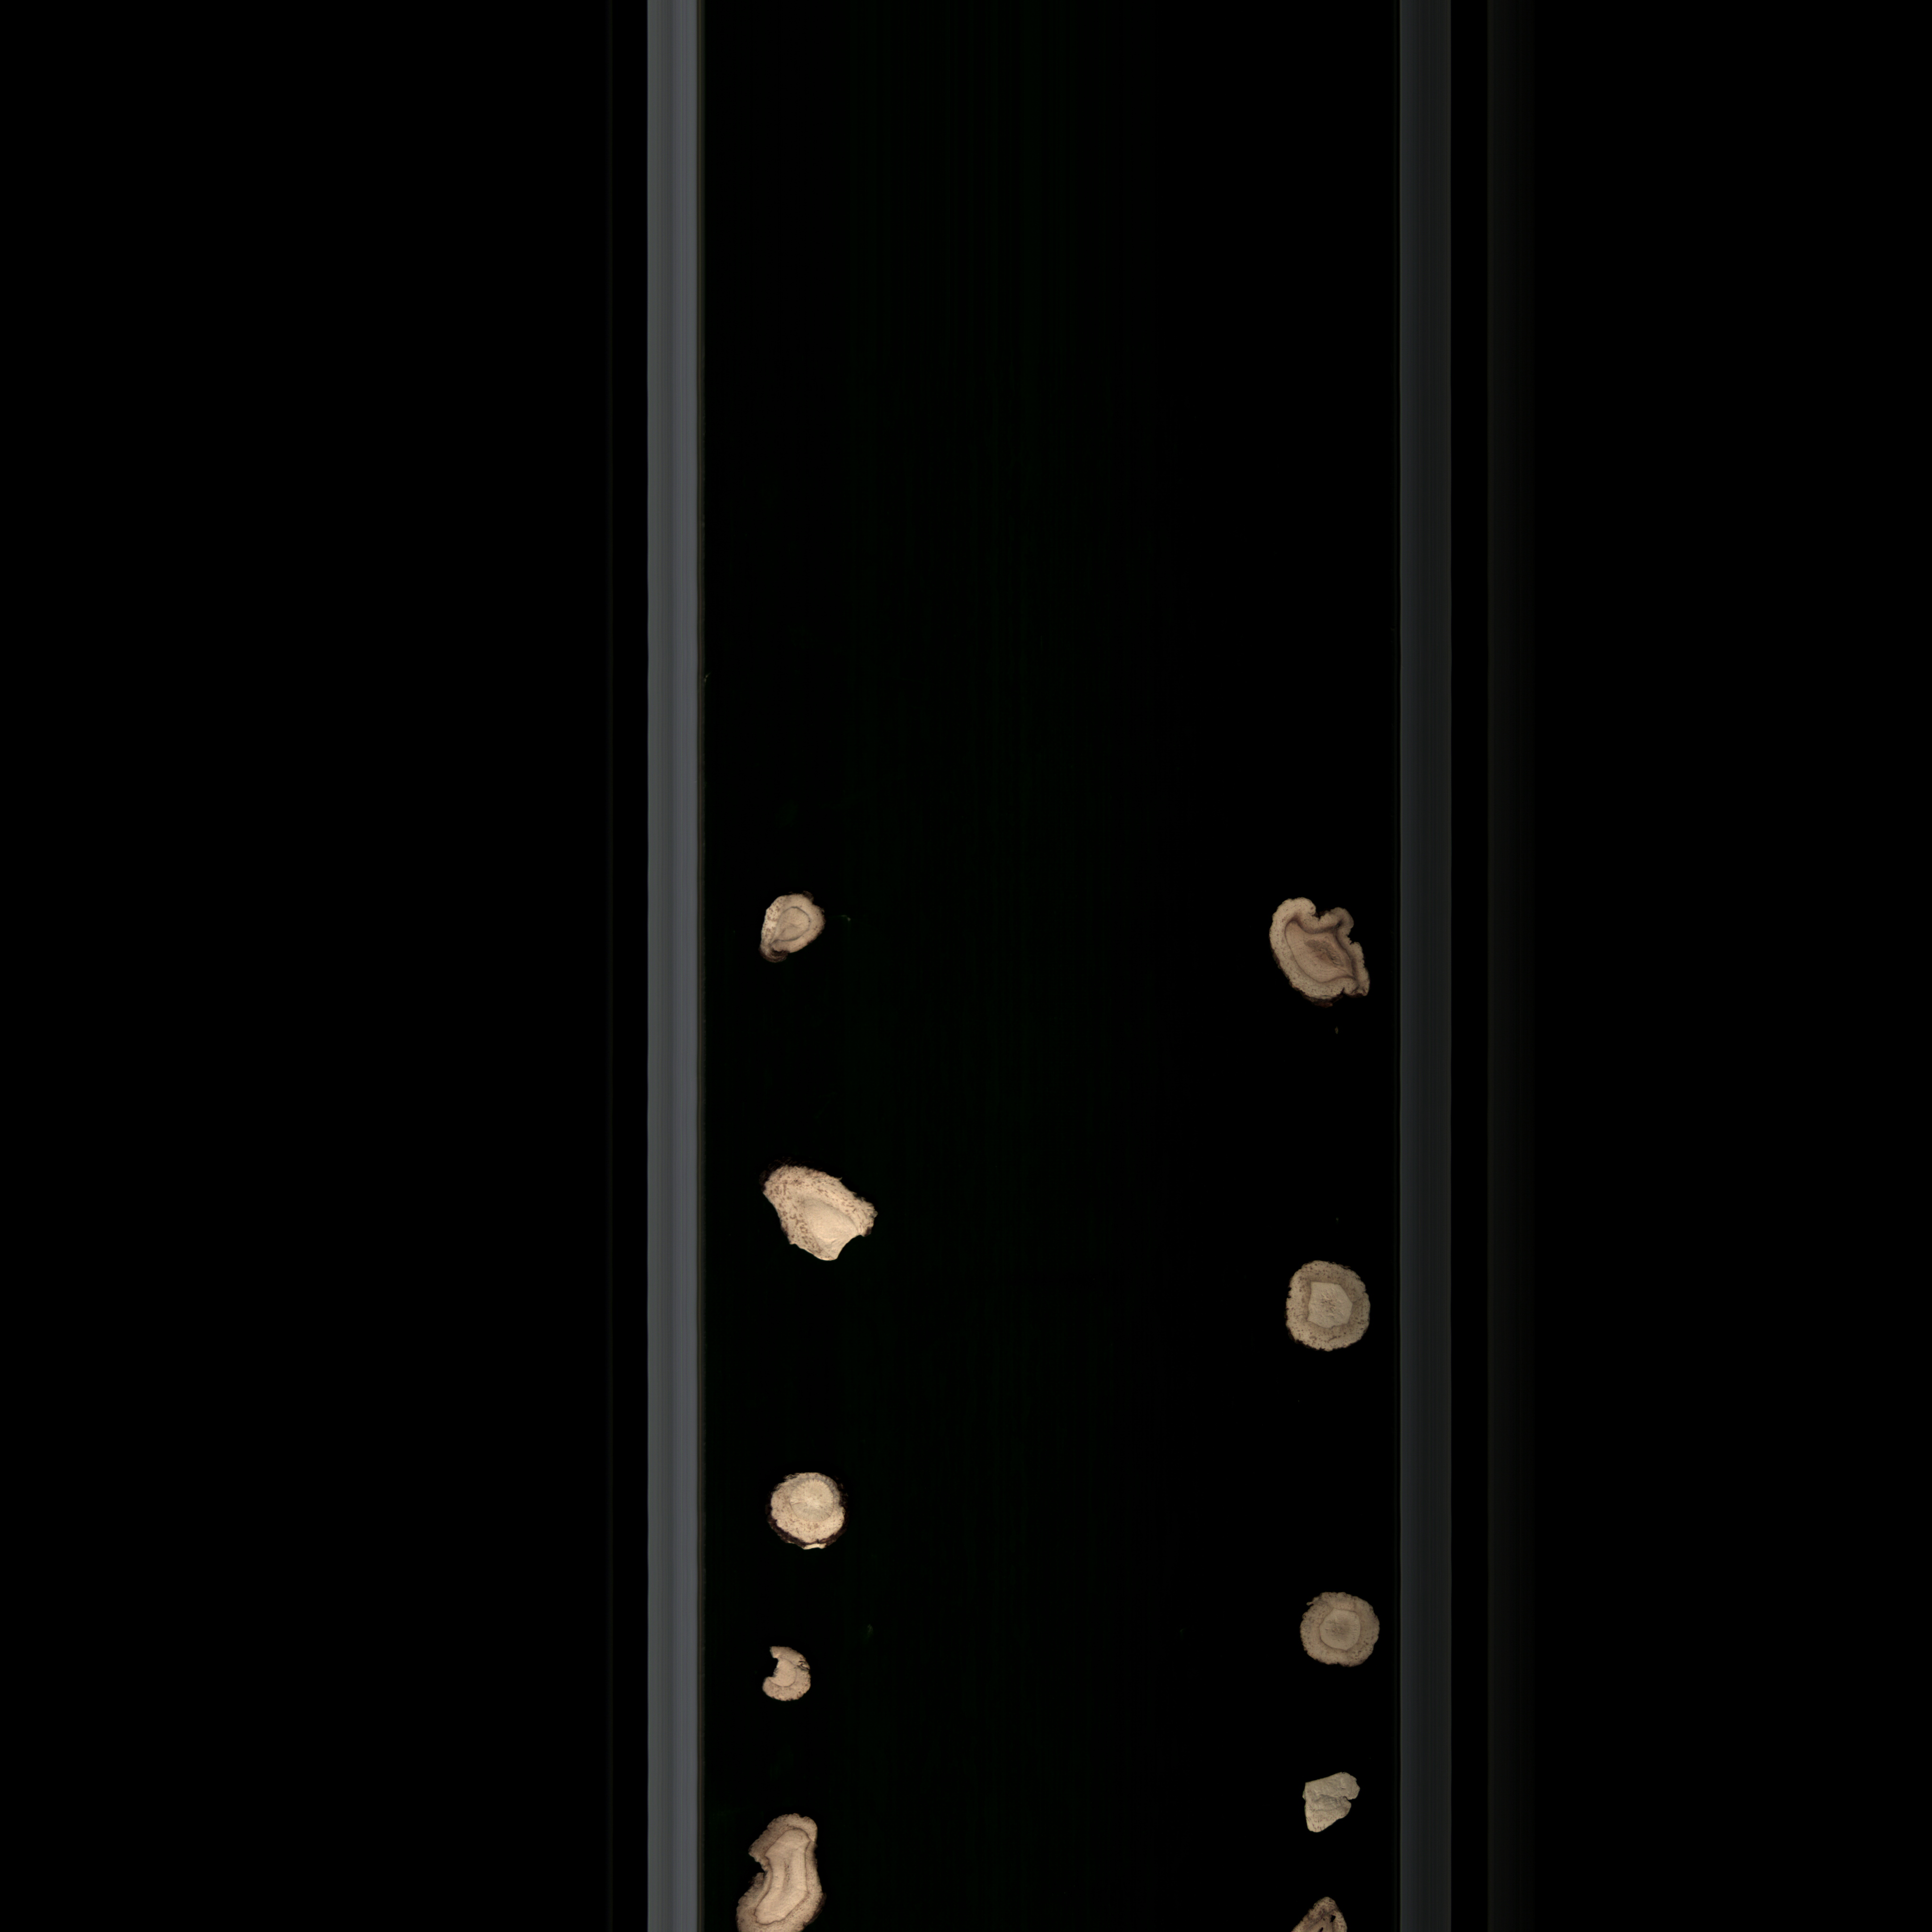debris: (738, 1155, 890, 1269), (1290, 1757, 1382, 1845), (750, 1642, 832, 1709)
distortion: (725, 1798, 865, 1932), (741, 881, 849, 982)
moldy: (1233, 878, 1394, 1028)
